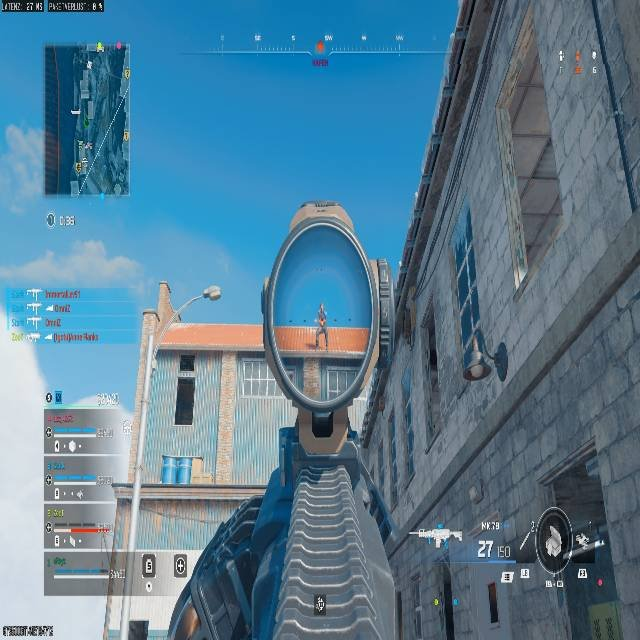player: (315, 303, 328, 349)
